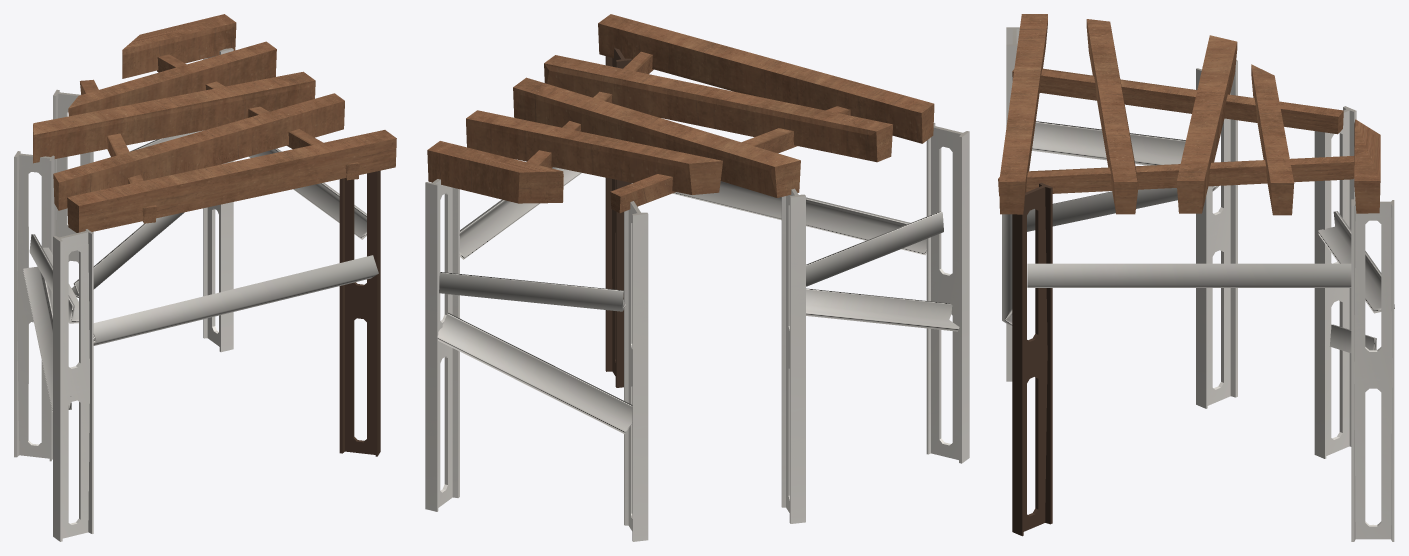
File: builderFloorCorner_WIP.FBX
The picture shows the model from 3 angles, left to right: view 1: azimuth 30°, elevation 25°; view 2: azimuth 150°, elevation 25°; view 3: azimuth 270°, elevation 25°; orthographic projection. The views are drawn at different scales.
Parts seen in each view (by area): view 1: builderFloorCorner_WIP_LOD0; view 2: builderFloorCorner_WIP_LOD0; view 3: builderFloorCorner_WIP_LOD0.
Boxes of the visible parts, x1,y1,x2,y2 form: builderFloorCorner_WIP_LOD0: (14,14,396,541); builderFloorCorner_WIP_LOD0: (425,14,969,541); builderFloorCorner_WIP_LOD0: (998,14,1394,541).
Size of what is drawn, in the model's own units: 3.41 by 3.16 by 3.13.
